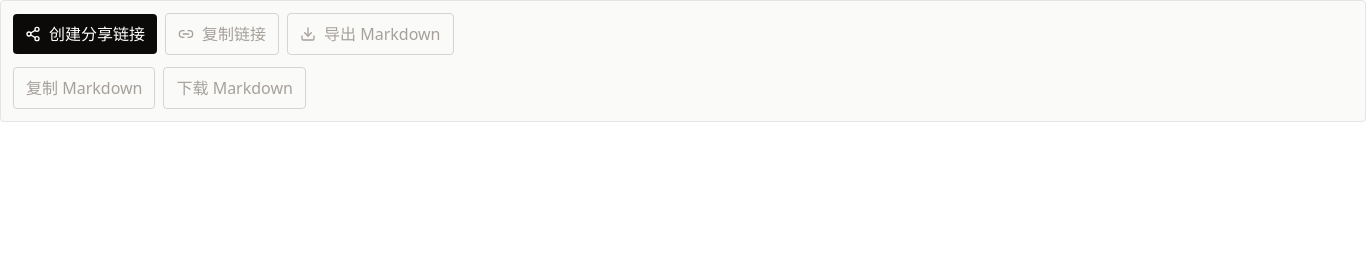
Test: chain sharing frontend › disables copy and download buttons when export fails
This screenshot has width=1366, height=271.
Step 1. Click the button "创建分享链接" → click(85, 34), box [13,14,157,54]
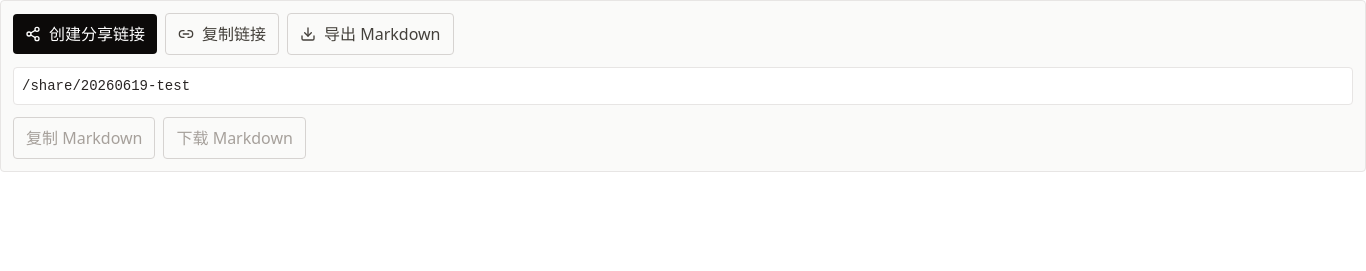
Check: the text "/share/20260619-test" is shown, box [13,67,1353,105]
Step 2. Click the button "导出 Markdown" → click(370, 34), box [287,13,454,55]
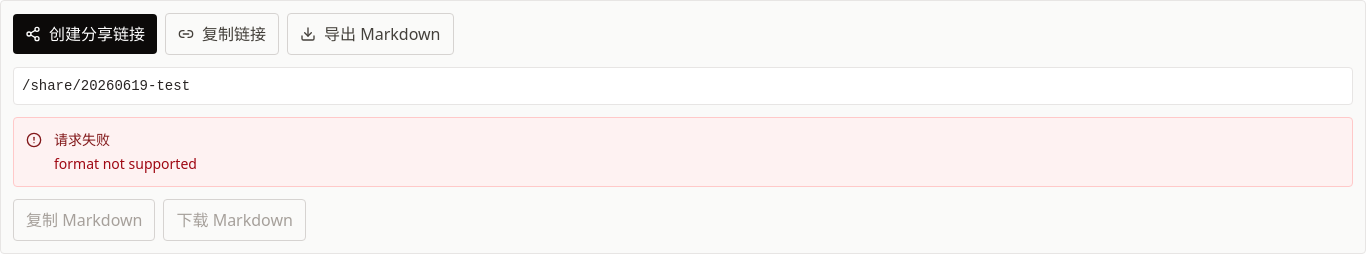
Check: the button "复制 Markdown" is disabled, box [13,199,156,241]
Check: the message "请求失败 format not supported" is shown, box [13,117,1353,187]
